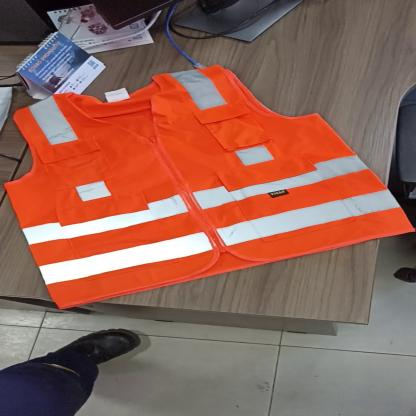colete: (3, 63, 416, 311)
